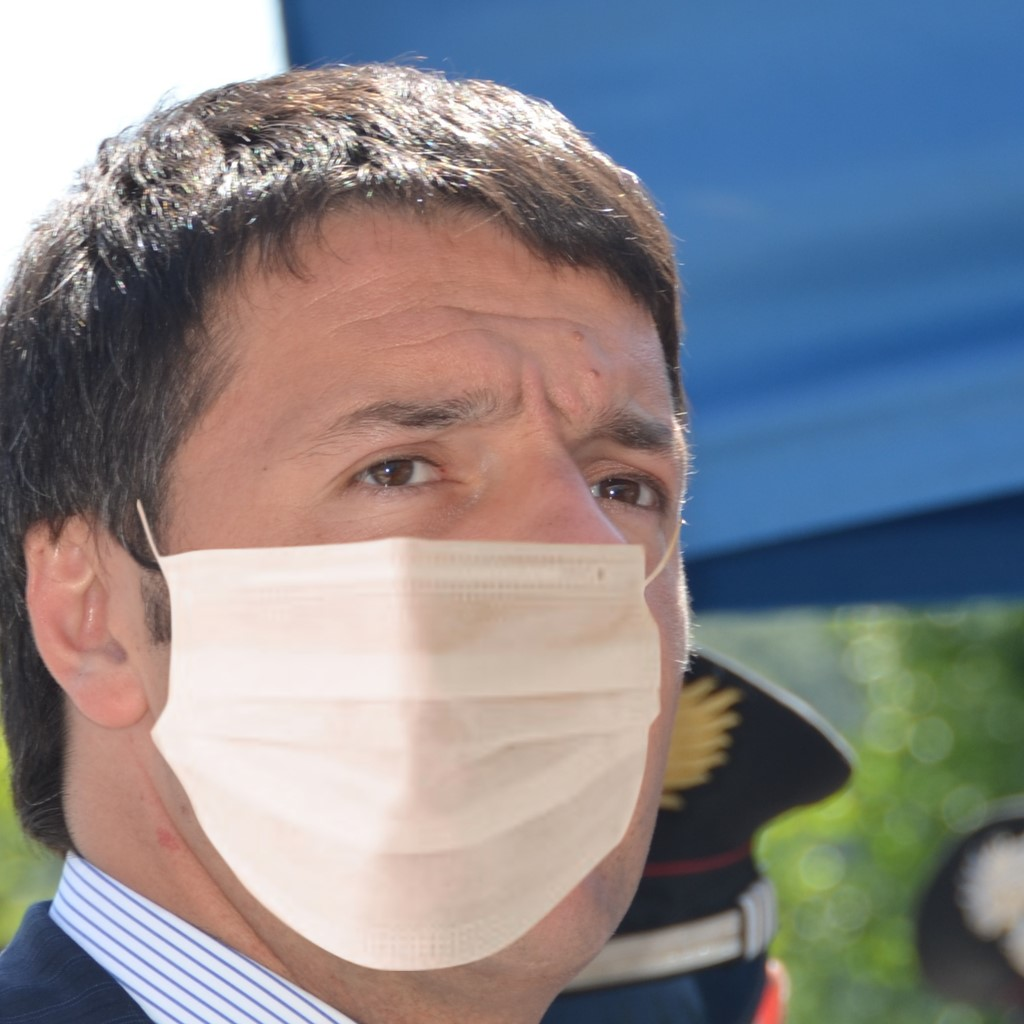con_mascara: (78, 83, 694, 1000)
